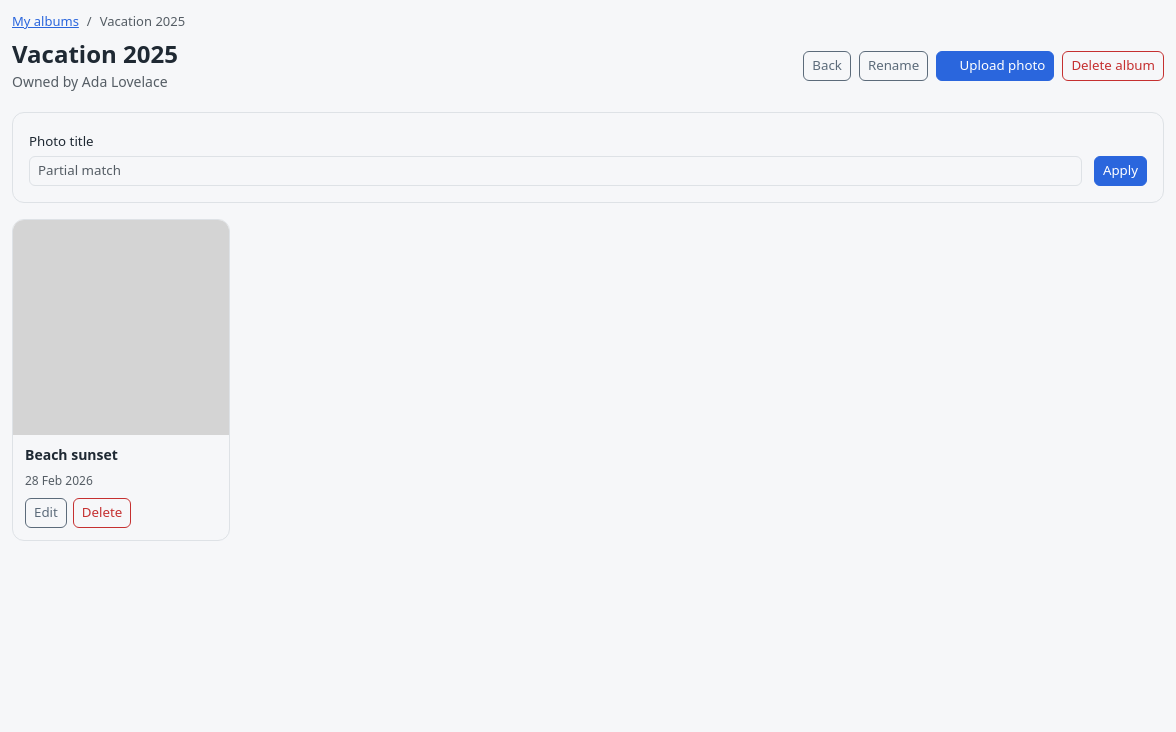
Test: Filtering an album’s photos down to nothing › says the filter matched nothing, not that the album is empty
The image size is (1176, 732).
Type "nothing-matches-this" into the field labelled "Photo title" at (555,171), box [29, 156, 1082, 186]
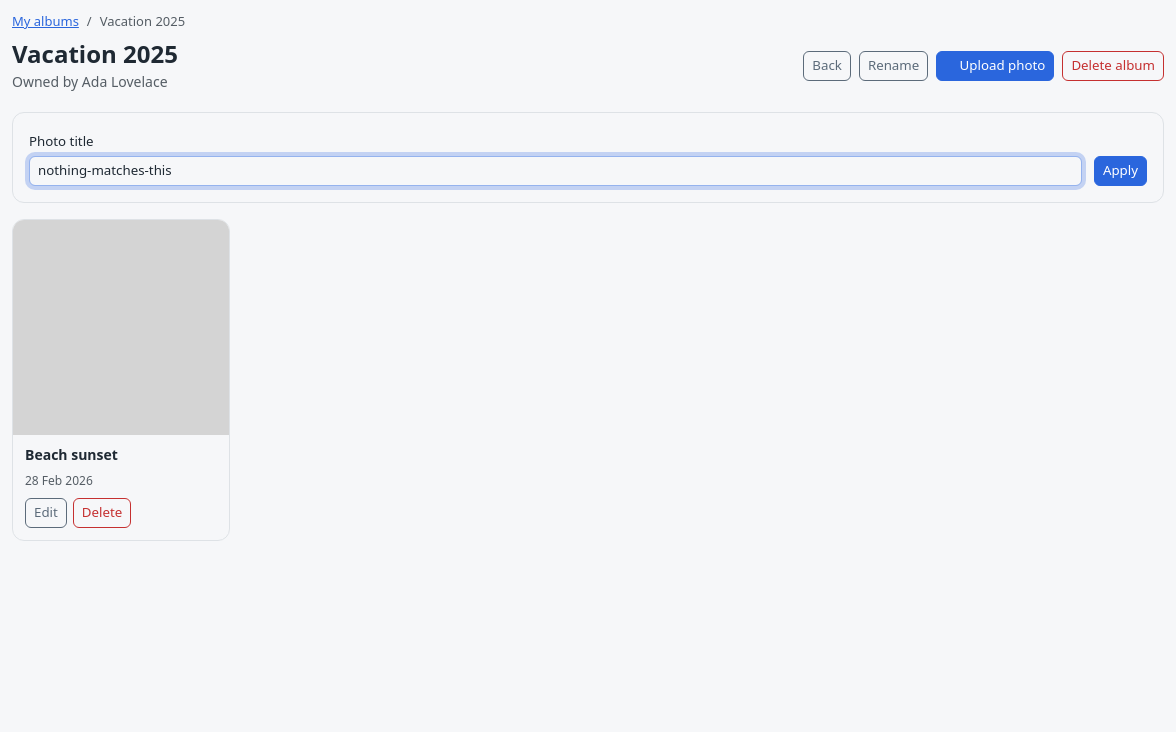
Click the button "Apply" at (1120,171), box [1094, 156, 1147, 186]
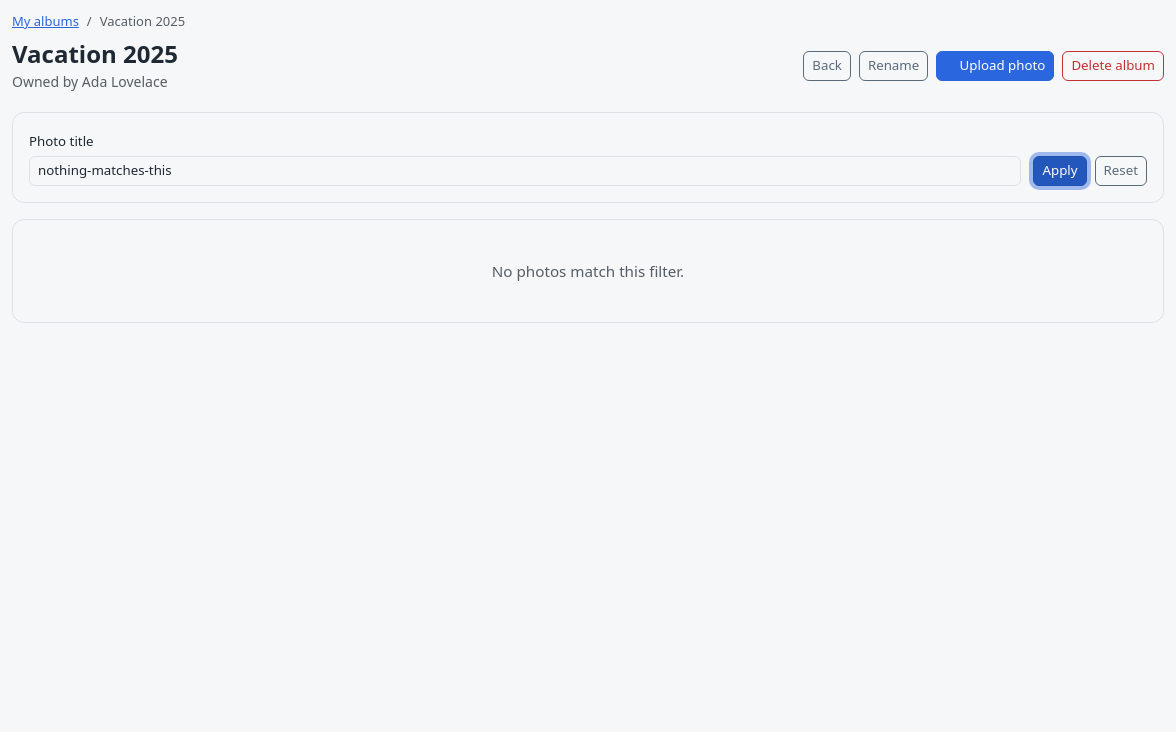
Check: the text "No photos match this filter." is shown, box [12, 219, 1164, 323]
